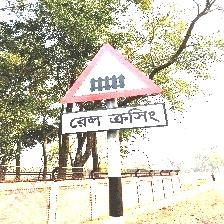Rail-crossing: (59, 43, 167, 133)
